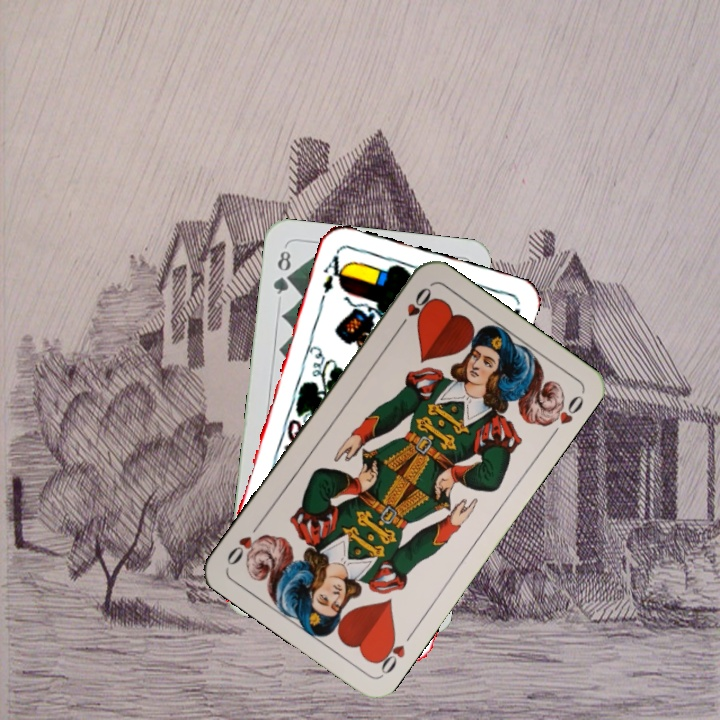EA: (316, 247, 349, 305)
G8: (269, 246, 294, 297)
HO: (371, 626, 417, 678), (393, 283, 435, 333)
